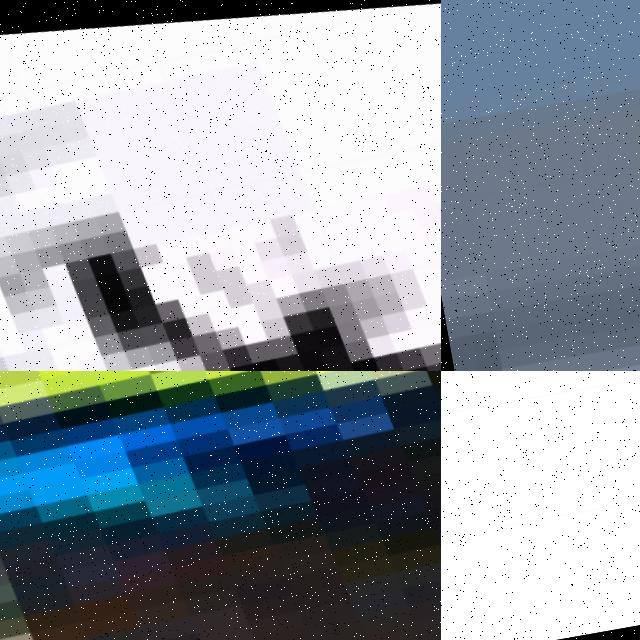drone: (0, 0, 441, 371), (0, 371, 441, 640)
